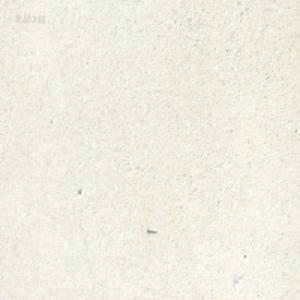Nail: (146, 227, 157, 235)
